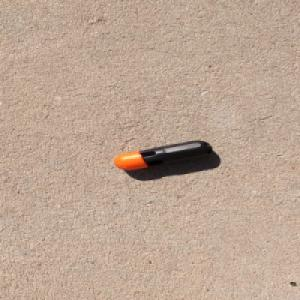PlasticPart: (113, 140, 213, 170)
